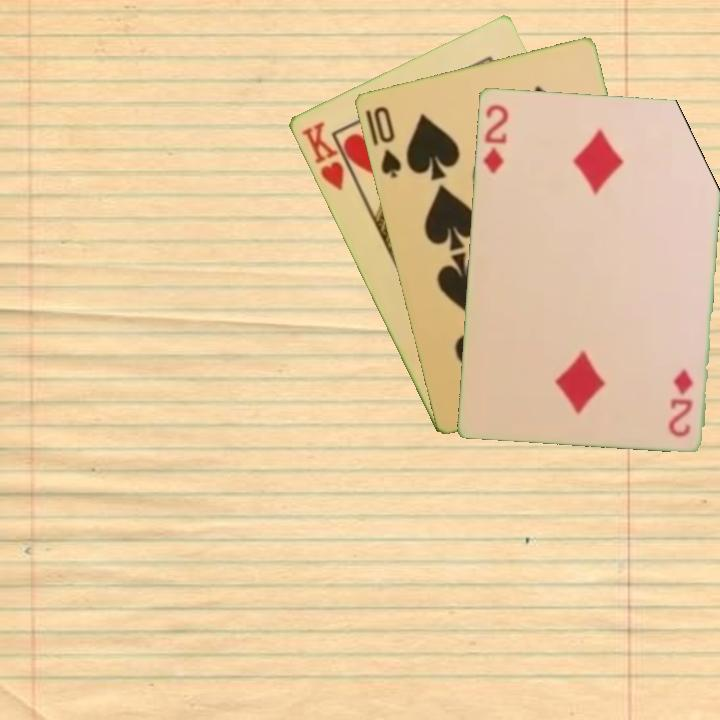10s: (369, 102, 404, 181)
2d: (479, 100, 511, 175), (666, 365, 695, 439)
Kh: (297, 117, 359, 193)
